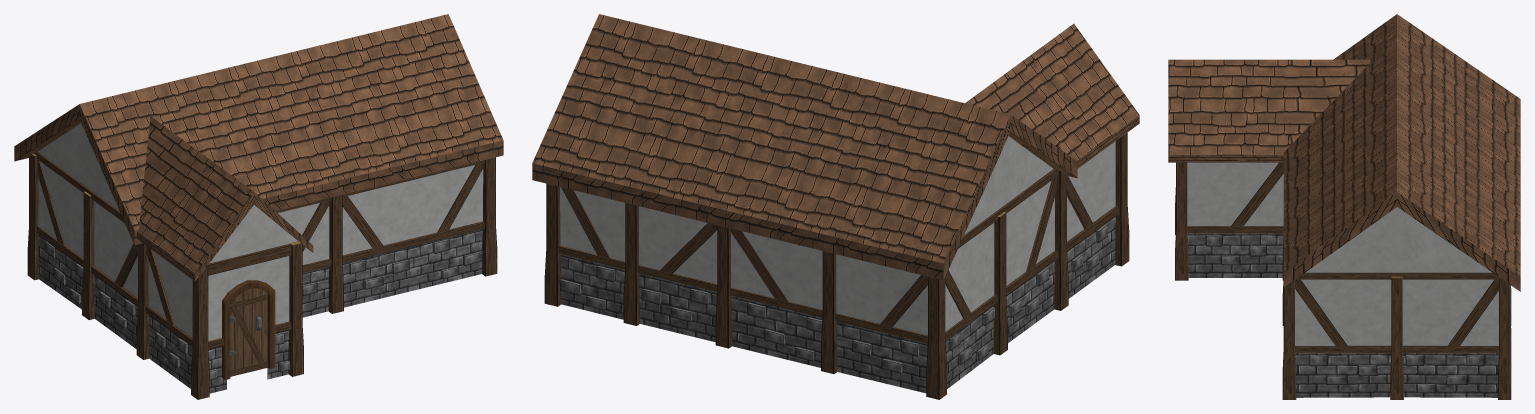
The model's file is Building_c.fbx.
3 renders of one model, left to right at view 1: azimuth 30°, elevation 25°; view 2: azimuth 150°, elevation 25°; view 3: azimuth 270°, elevation 25°, orthographic. The views are drawn at different scales.
Parts seen in each view (by area): view 1: Building_c; view 2: Building_c; view 3: Building_c.
Part boxes in pixels (<box>): Building_c: <box>14,14,503,399</box>; Building_c: <box>532,14,1139,399</box>; Building_c: <box>1168,14,1520,399</box>.
Size of the model in its own units: 496 by 412 by 275.
